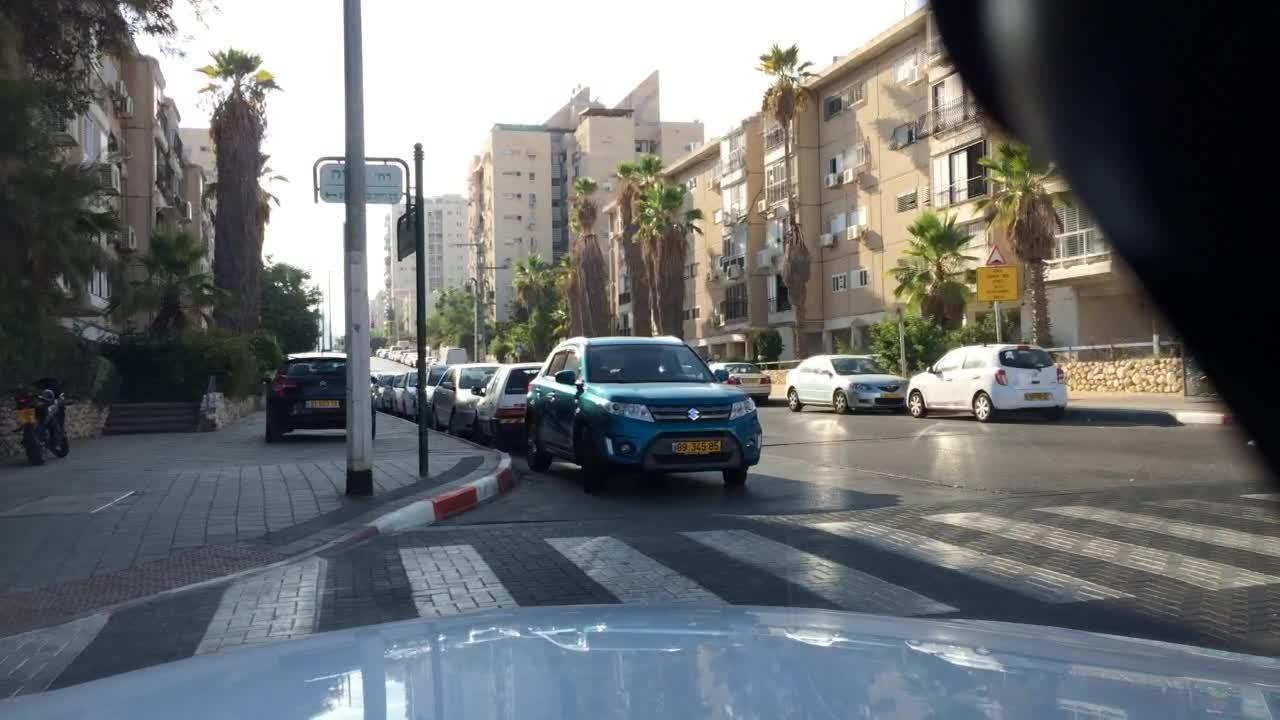suzuki: (682, 400, 708, 429)
